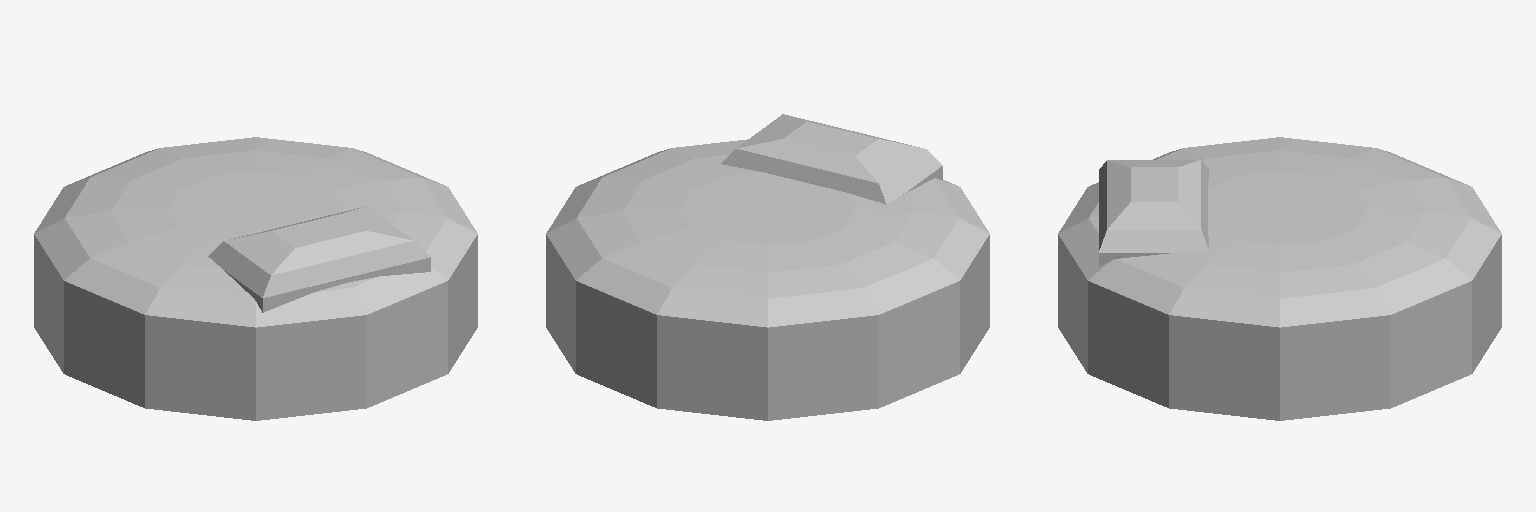
Rendered from bed_single_gemstoneislands.obj.
3 views of the same model, side by side, from view 1: azimuth 30°, elevation 25°; view 2: azimuth 150°, elevation 25°; view 3: azimuth 270°, elevation 25° (orthographic).
Visible parts, largest first — view 1: bed_gemstone_islands; view 2: bed_gemstone_islands; view 3: bed_gemstone_islands.
Part boxes in pixels (bbox=[...]): bed_gemstone_islands: bbox=[34, 137, 477, 420]; bed_gemstone_islands: bbox=[546, 114, 989, 420]; bed_gemstone_islands: bbox=[1058, 137, 1501, 420].
Size of the model in its own units: 1.2 by 0.425 by 1.2.